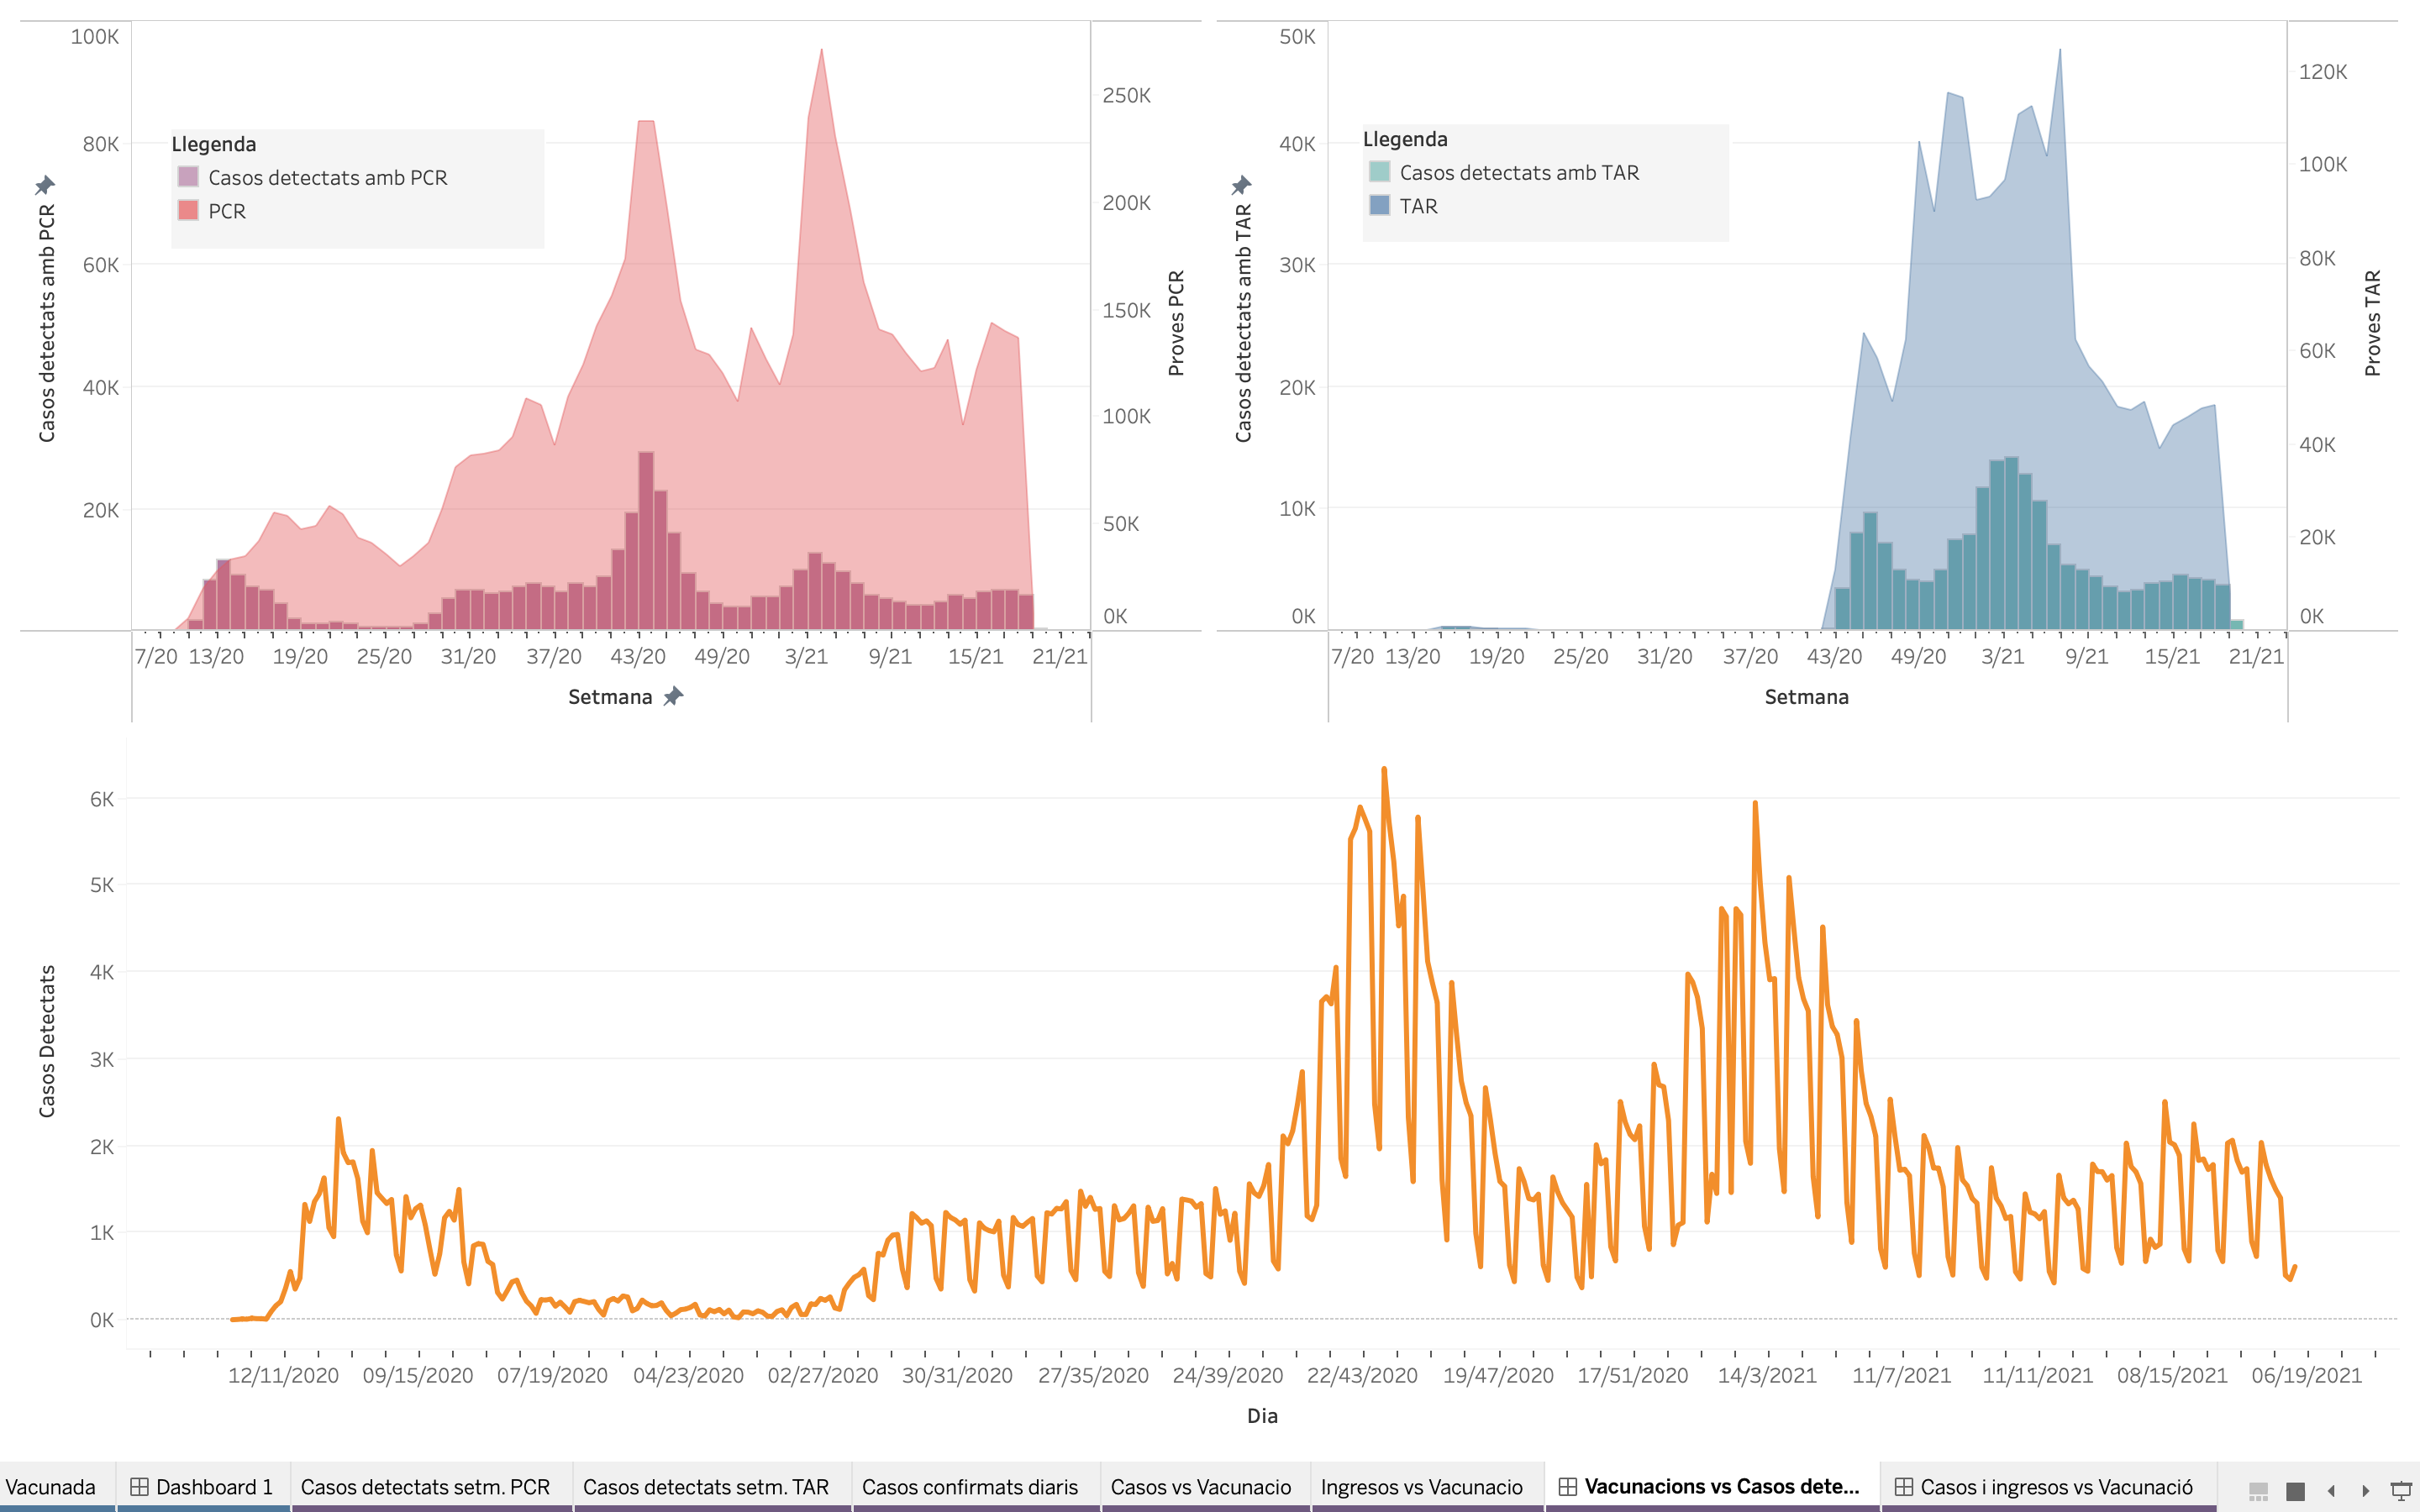

What the dashboard file says about the page in this screenshot:
{"tool":"tableau","page":{"name":"Vacunacions vs Casos detectats","canvas":[1000,1000],"units":"permille","ordinal":2},"visuals":[{"type":"worksheet","box":[0,0,1000,1000]},{"type":"worksheet","param":"horz","box":[6.7,11.4,986.7,977.2]},{"type":"worksheet","box":[6.7,11.4,986.7,977.2]},{"type":"worksheet","title":"Casos detectats setm. PCR","mark":"Bar","rows":["CASOS_PCR","PCR"],"cols":["DATA"],"box":[6.7,11.4,493.3,488.6]},{"type":"worksheet","title":"Casos detectats setm. TAR","mark":"Area","rows":["CASOS_TAR","TAR"],"cols":["DATA"],"box":[500,11.4,493.4,488.6]},{"type":"worksheet","title":"Casos detectats setm. TAR","mark":"Area","rows":["CASOS_TAR","TAR"],"cols":["DATA"],"param":"[federated.1p4ngpn01tn2bf1b4m70l0nsrzfb].[:Measure Names]","box":[561.7,82.2,154.2,84.9]},{"type":"worksheet","title":"Casos detectats setm. PCR","mark":"Bar","rows":["CASOS_PCR","PCR"],"cols":["DATA"],"param":"[federated.1p4ngpn01tn2bf1b4m70l0nsrzfb].[:Measure Names]","box":[69.2,86.2,156.7,86.2]},{"type":"worksheet","title":"Casos confirmats diaris","mark":"Automatic","rows":["Calculation_438608421527216129"],"cols":["DATA"],"box":[6.7,500,986.7,488.6]}]}

Visuals, with their boxes on the dashboard's canvas, which has no fixed pixel size, in thousandths of its width and height (x1, y1, x2, y2). These are canvas units, not pixel positions in the 2420x1512 screenshot, which may show the page scaled, cropped or inside an application window:
worksheet: {"left": 0, "top": 0, "right": 1000, "bottom": 1000}
worksheet: {"left": 7, "top": 11, "right": 993, "bottom": 989}
worksheet: {"left": 7, "top": 11, "right": 993, "bottom": 989}
"Casos detectats setm. PCR" worksheet (Bar marks): {"left": 7, "top": 11, "right": 500, "bottom": 500}
"Casos detectats setm. TAR" worksheet (Area marks): {"left": 500, "top": 11, "right": 993, "bottom": 500}
"Casos detectats setm. TAR" worksheet (Area marks): {"left": 562, "top": 82, "right": 716, "bottom": 167}
"Casos detectats setm. PCR" worksheet (Bar marks): {"left": 69, "top": 86, "right": 226, "bottom": 172}
"Casos confirmats diaris" worksheet: {"left": 7, "top": 500, "right": 993, "bottom": 989}
